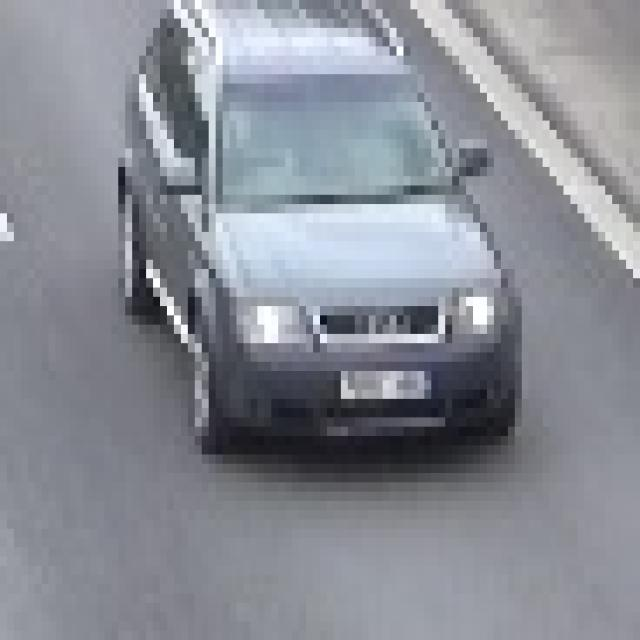SUV: (128, 3, 508, 435)
